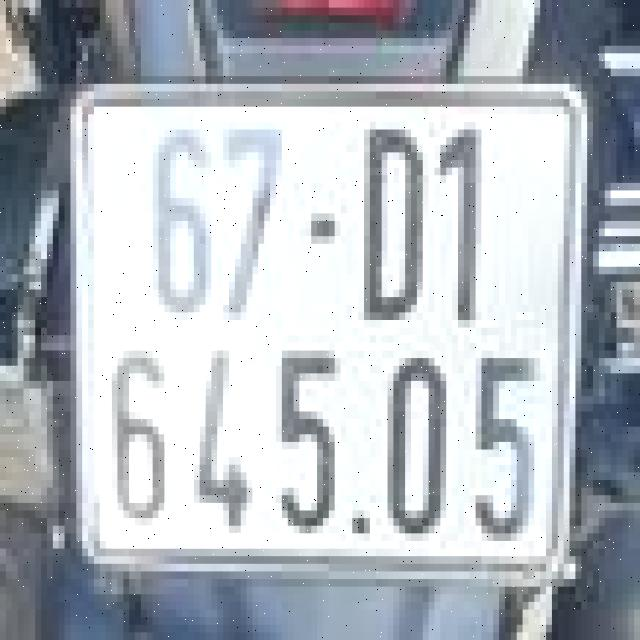0: (367, 343, 455, 556)
1: (429, 111, 499, 339)
4: (182, 351, 264, 534)
5: (470, 332, 546, 552), (267, 332, 344, 537)
6: (138, 106, 220, 328), (88, 336, 176, 534)
7: (208, 107, 290, 335)
D: (352, 110, 434, 332)
